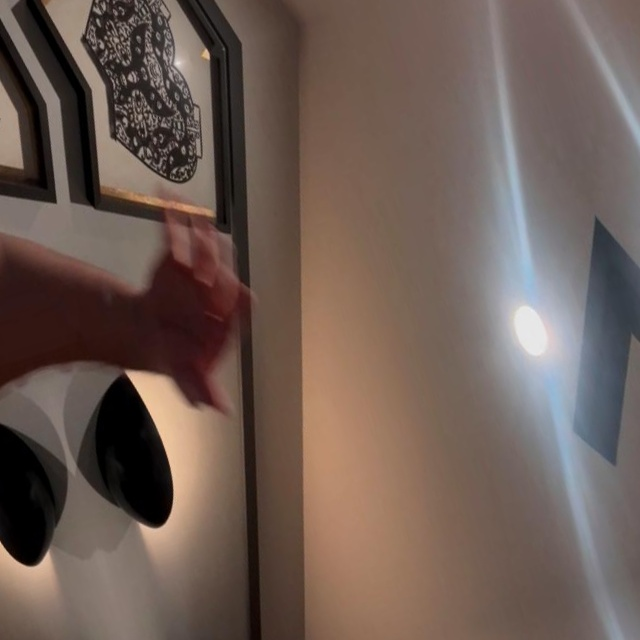Paper: (112, 172, 284, 432)
